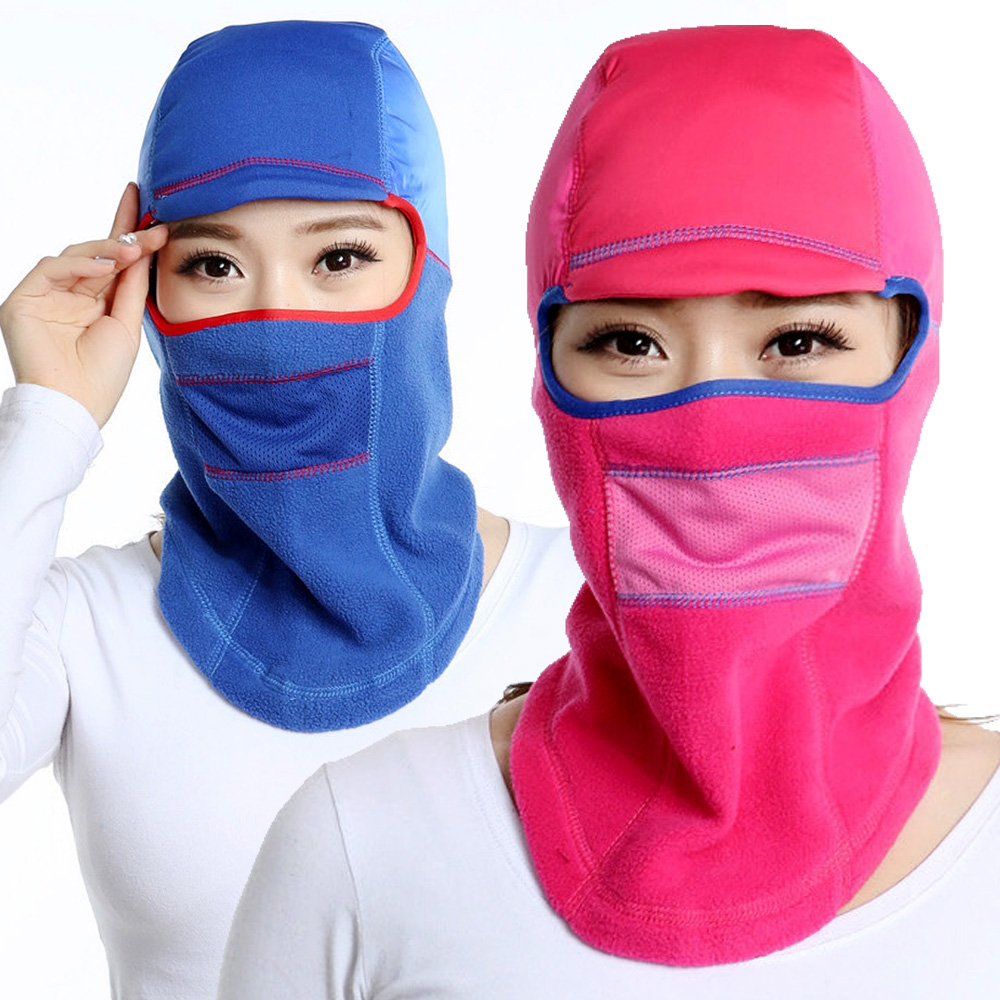face_mask: (546, 172, 903, 620), (151, 144, 417, 476)
